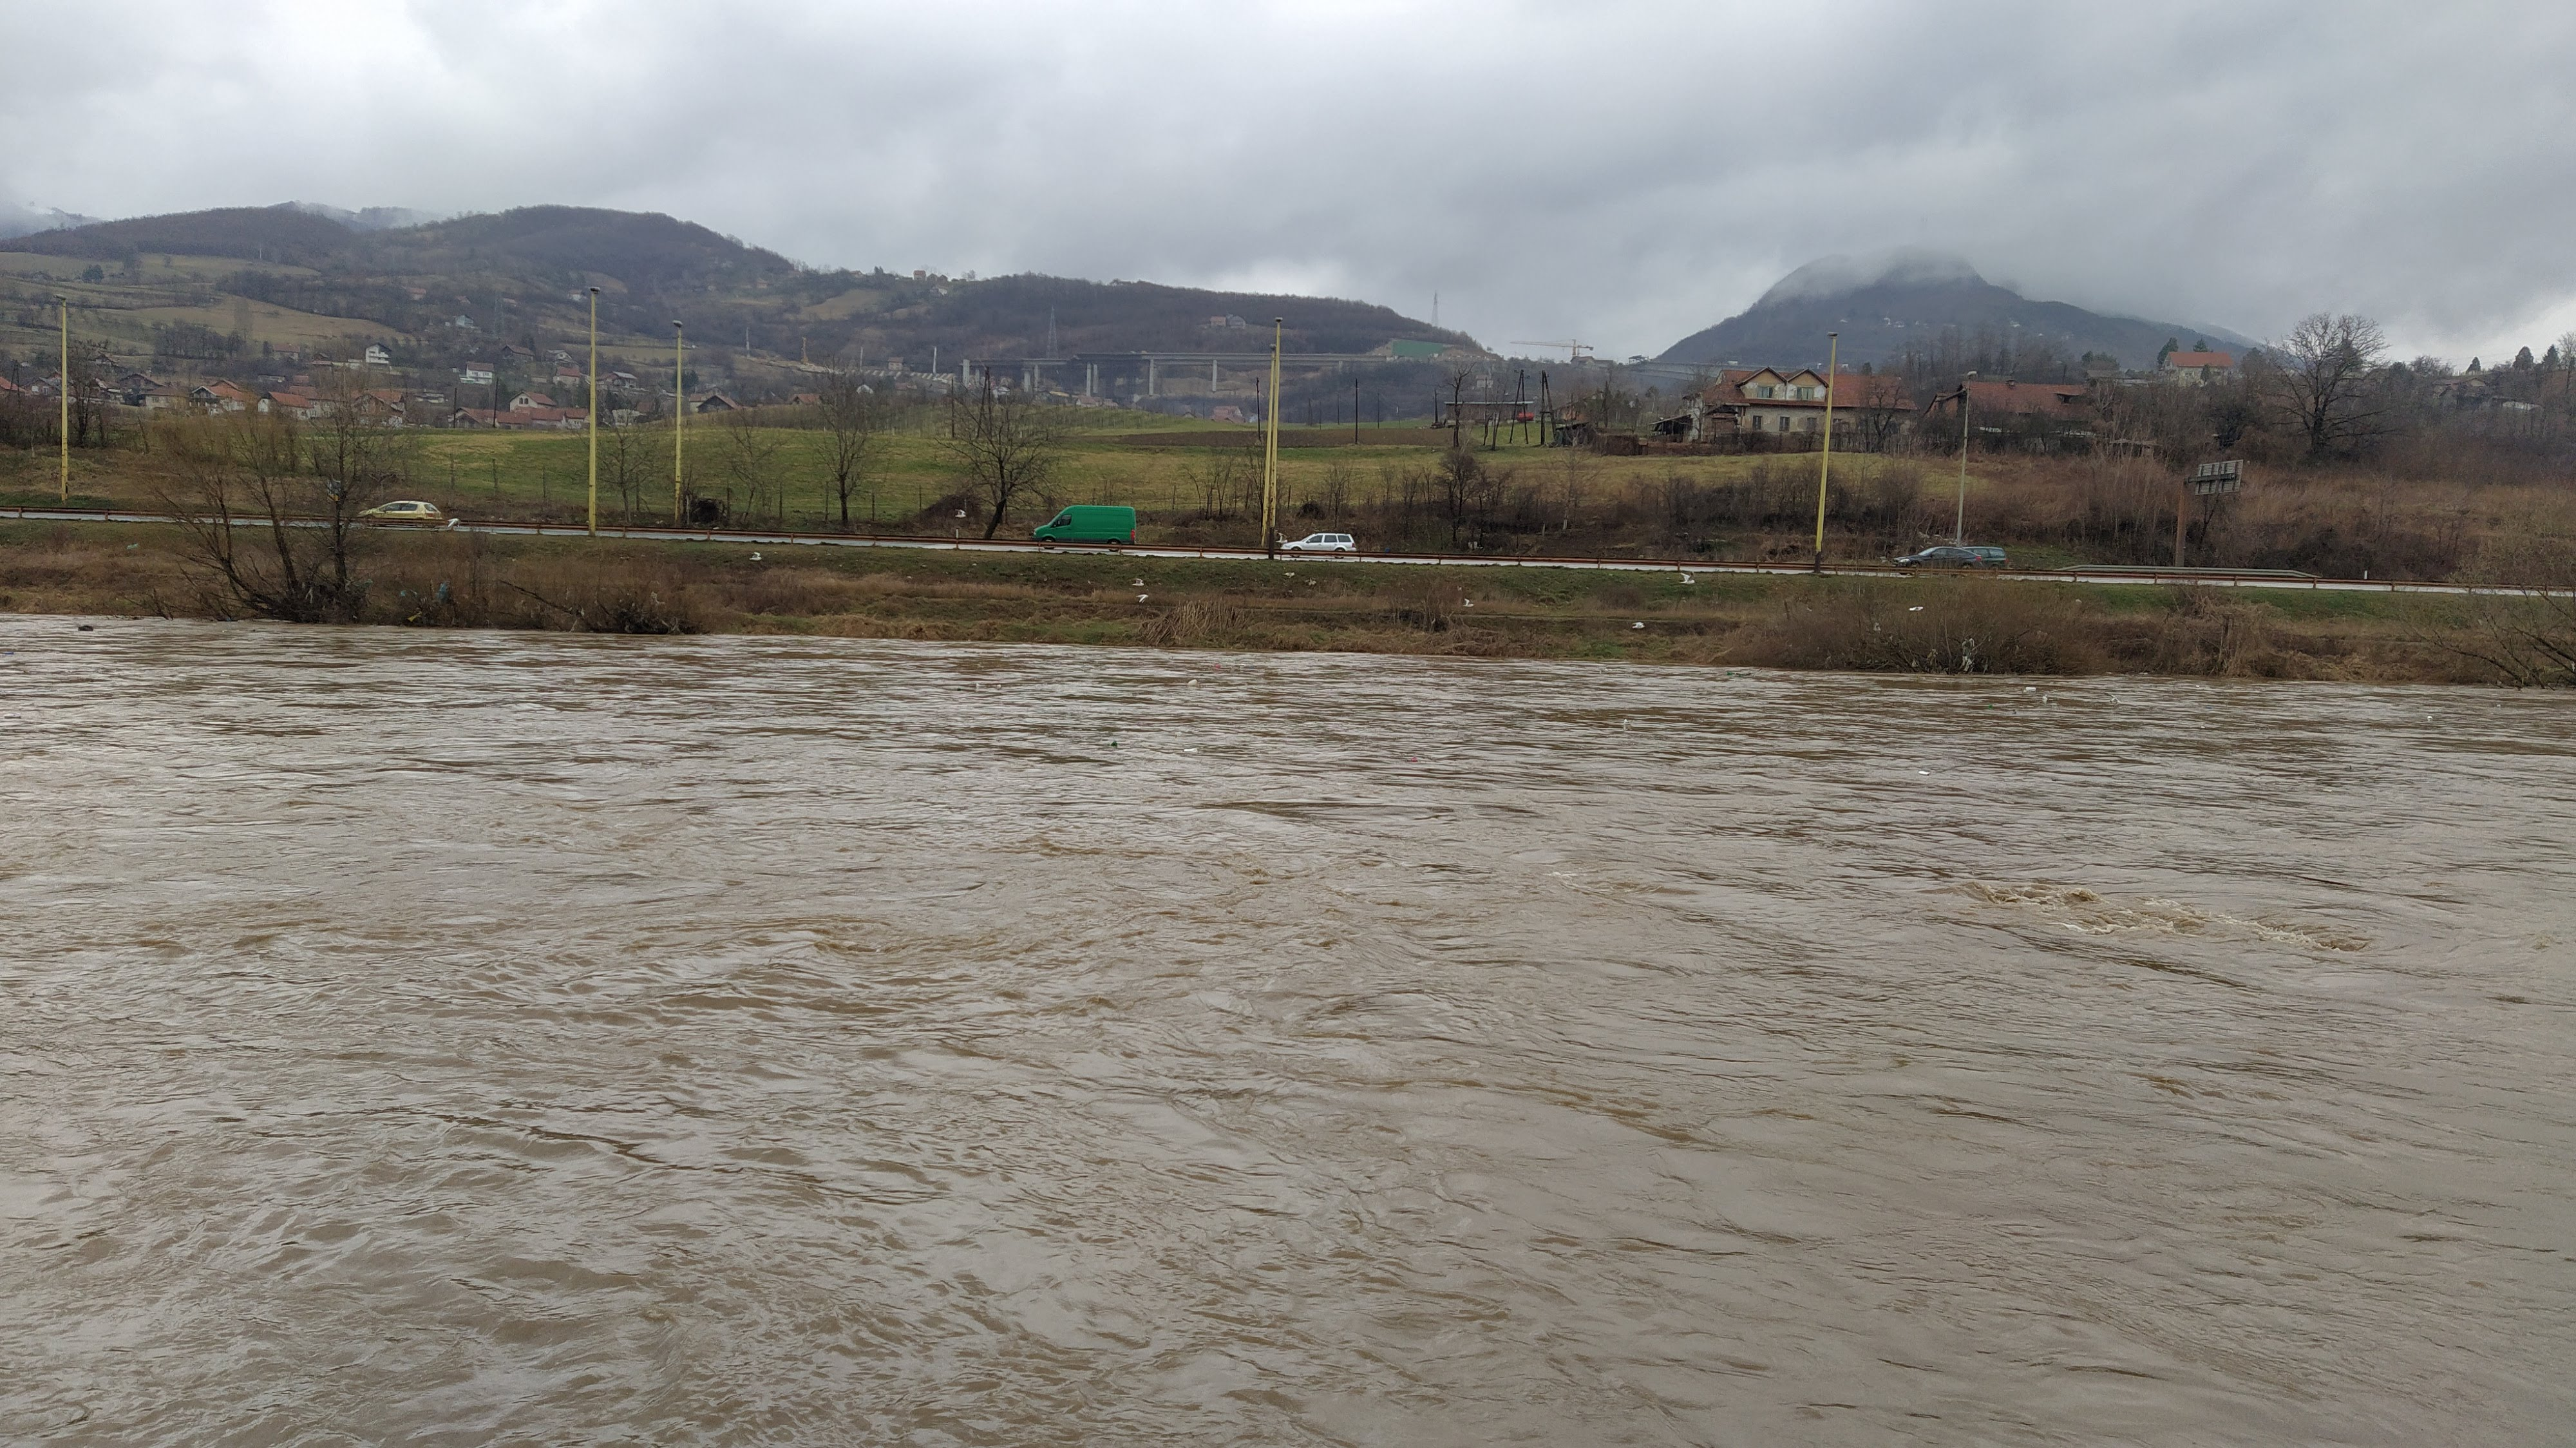Plastic Bottle: (1097, 740, 1118, 745), (1182, 747, 1196, 752), (1185, 680, 1198, 685), (975, 683, 987, 689), (5, 713, 21, 717), (2026, 687, 2038, 690), (1410, 758, 1419, 761), (1918, 770, 1927, 774), (1727, 671, 1734, 674), (955, 687, 961, 690), (2206, 705, 2212, 708), (5, 651, 14, 653), (1215, 664, 1221, 666), (1989, 703, 1990, 705)
